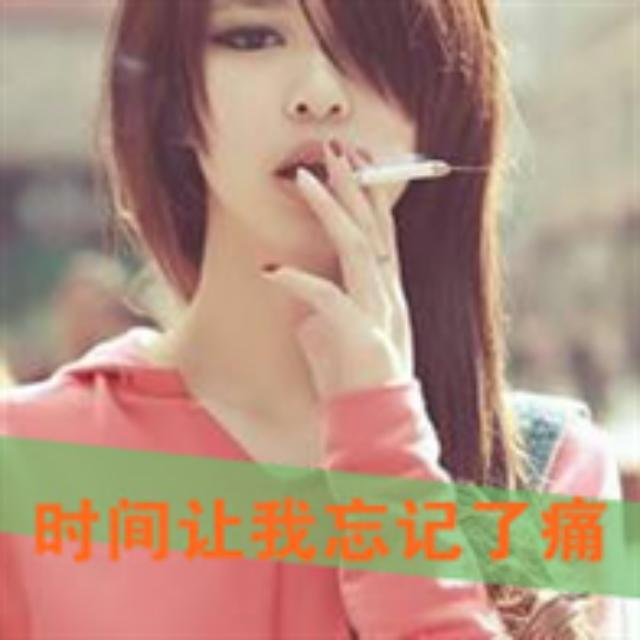SafeDriving: (198, 0, 304, 68)
Smoking: (361, 155, 455, 187)
